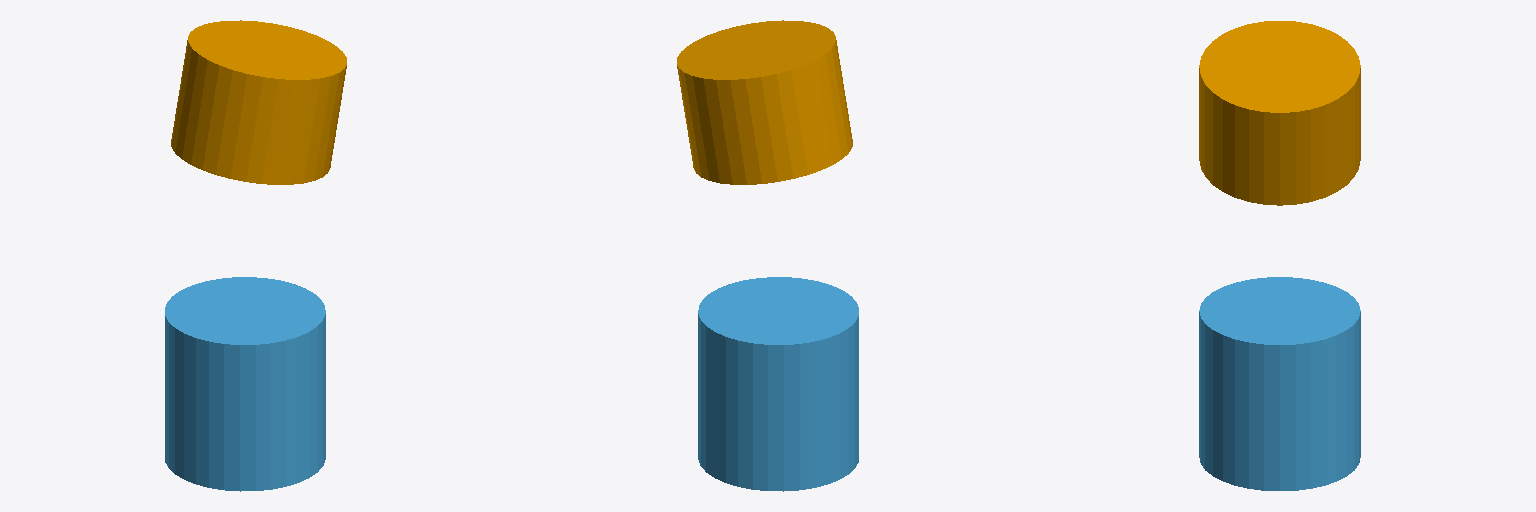
The robot description file, URDF, robot "cartographer_backpack_3d":
<!--
  Copyright 2016 The Cartographer Authors

  Licensed under the Apache License, Version 2.0 (the "License");
  you may not use this file except in compliance with the License.
  You may obtain a copy of the License at

       http://www.apache.org/licenses/LICENSE-2.0

  Unless required by applicable law or agreed to in writing, software
  distributed under the License is distributed on an "AS IS" BASIS,
  WITHOUT WARRANTIES OR CONDITIONS OF ANY KIND, either express or implied.
  See the License for the specific language governing permissions and
  limitations under the License.
-->

<robot name="cartographer_backpack_3d">

  <link name="laser_link">
    <visual>
      <origin xyz="0.0 0.0 0.0" />
      <geometry>
        <cylinder length="0.07" radius="0.05" />
      </geometry>
      <material name="gray" />
    </visual>
  </link>

  <joint name="laser_joint" type="fixed">
    <parent link="base_link" />
    <child link="laser_link" />
    <origin xyz="0.01 0. 0.19" rpy="0. -0.1745 3.1416" />
  </joint>

  <link name="base_link">
    <visual>
      <origin xyz="0.0 0.0 0.0" />
      <geometry>
        <cylinder length="0.1" radius="0.05" />
      </geometry>
      <material name="gray" />
    </visual>
  </link>

</robot>

--- Facts derived from the render (not from the file) ---
Views: 3 orthographic renders of the robot side by side, from view 1: azimuth 30°, elevation 25°; view 2: azimuth 150°, elevation 25°; view 3: azimuth 270°, elevation 25°.
Model cartographer_backpack_3d with 2 links and 1 joints (1 fixed), rooted at base_link, posed all joints at 0.
Links seen in each view (by area): view 1: base_link, laser_link; view 2: base_link, laser_link; view 3: base_link, laser_link.
Boxes of the visible links, x1,y1,x2,y2 form: base_link: (165, 277, 325, 491); laser_link: (171, 20, 346, 184); base_link: (698, 277, 858, 491); laser_link: (677, 20, 852, 184); base_link: (1199, 277, 1360, 490); laser_link: (1199, 21, 1360, 205).
Bounding box of the posed robot: 0.1153 × 0.1 × 0.2831 m (x, y, z).
Geometry: primitives only (box / cylinder / sphere), no mesh files.